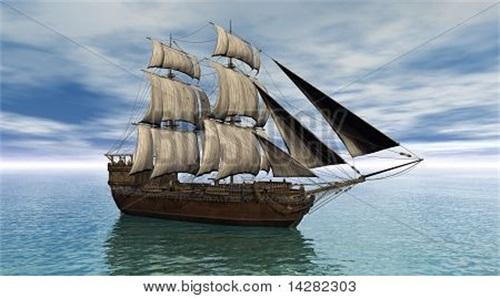Ship: (106, 22, 426, 226)
